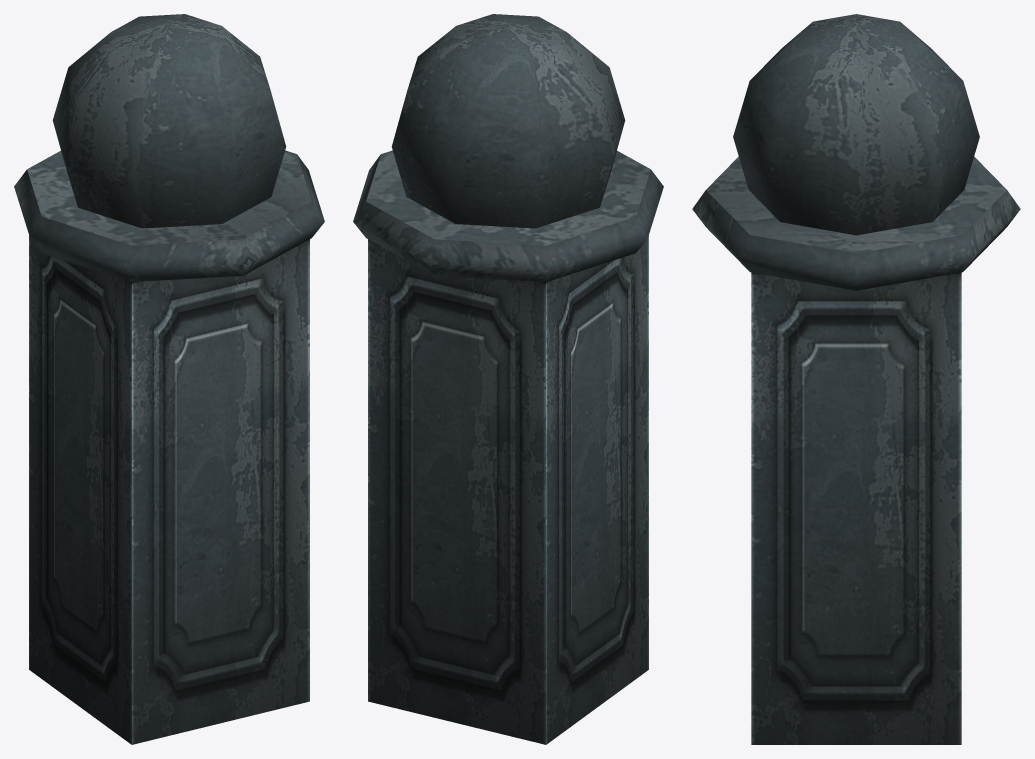
Rendered from obs_pole.fbx.
3 renders of one model, left to right at view 1: azimuth 30°, elevation 25°; view 2: azimuth 150°, elevation 25°; view 3: azimuth 270°, elevation 25°, orthographic. The views are drawn at different scales.
Visible parts, largest first — view 1: obs_pole; view 2: obs_pole; view 3: obs_pole.
Boxes of the visible parts, x1=… form: obs_pole: x1=14, y1=14, x2=324, y2=744; obs_pole: x1=353, y1=14, x2=663, y2=744; obs_pole: x1=692, y1=14, x2=1020, y2=744.
Size of the model in its own units: 31.09 by 70.51 by 31.09.
